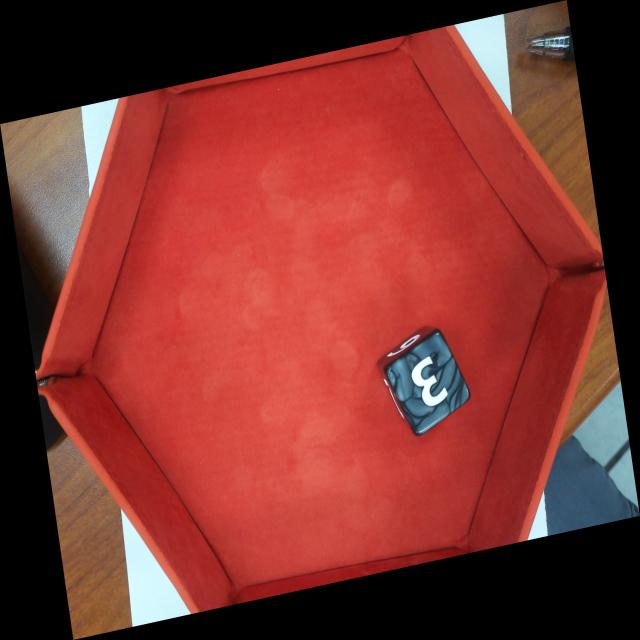dice: (383, 328, 472, 437)
